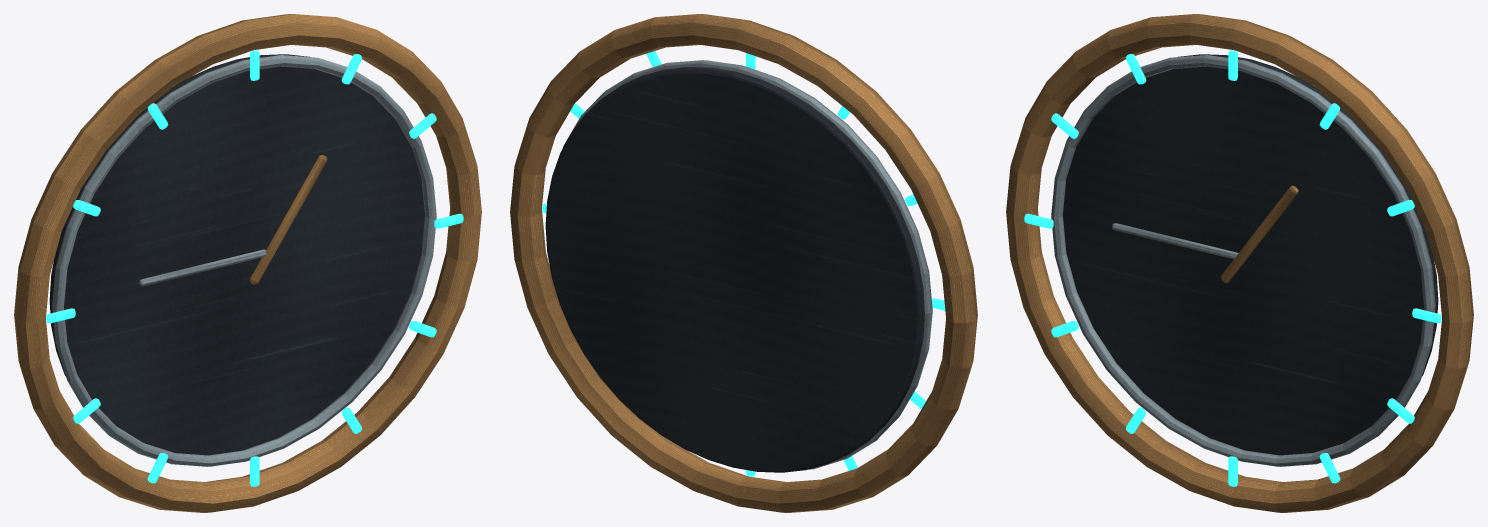
The model's file is station_clock.glb.
3 views of the same model, side by side, from view 1: azimuth 30°, elevation 25°; view 2: azimuth 150°, elevation 25°; view 3: azimuth 330°, elevation 25° (orthographic).
Parts seen in each view (by area): view 1: station_clock; view 2: station_clock; view 3: station_clock.
Boxes of the visible parts, x1,y1,x2,y2 form: station_clock: (14,14,481,512); station_clock: (510,14,977,512); station_clock: (1006,14,1473,512).
Size of the model in its own units: 3.09 by 3.09 by 0.275.
Materials: 4 (3 with a texture image).
